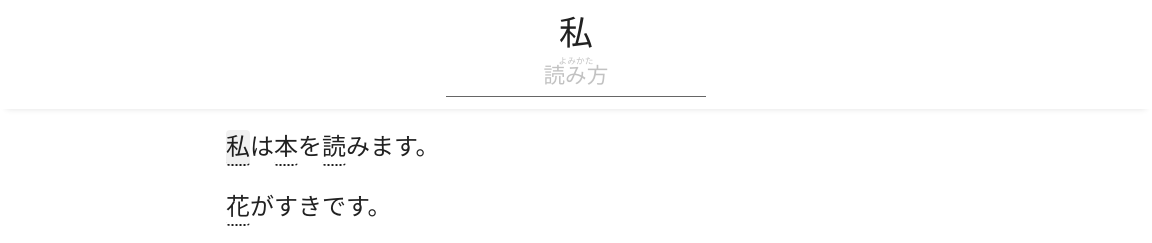
Test: reading the other way round › mirrors what is typed over the word being answered
In the field named "reading for 私": (576, 76) 446,56 -> 706,97, type "wata"
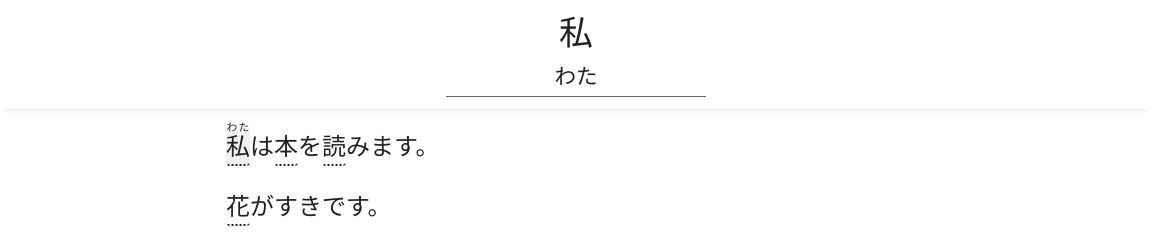
expect the text with test id "reading-slot" reads "わた": met, box 226,121 -> 250,134
